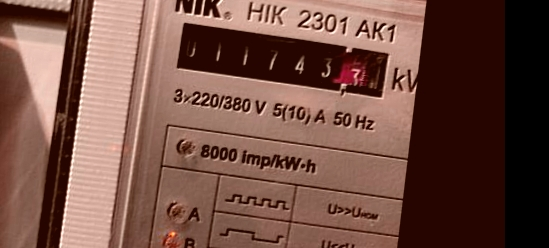0: (183, 32, 200, 60)
1: (209, 35, 227, 64), (237, 39, 253, 68)
3: (317, 53, 334, 81), (346, 66, 363, 89)
4: (292, 50, 308, 77)
7: (264, 45, 281, 72)
screen: (167, 16, 399, 106)
